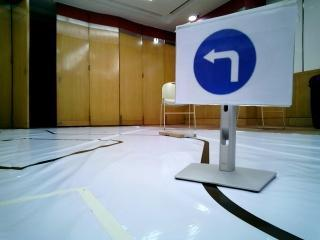left: (182, 24, 282, 96)
